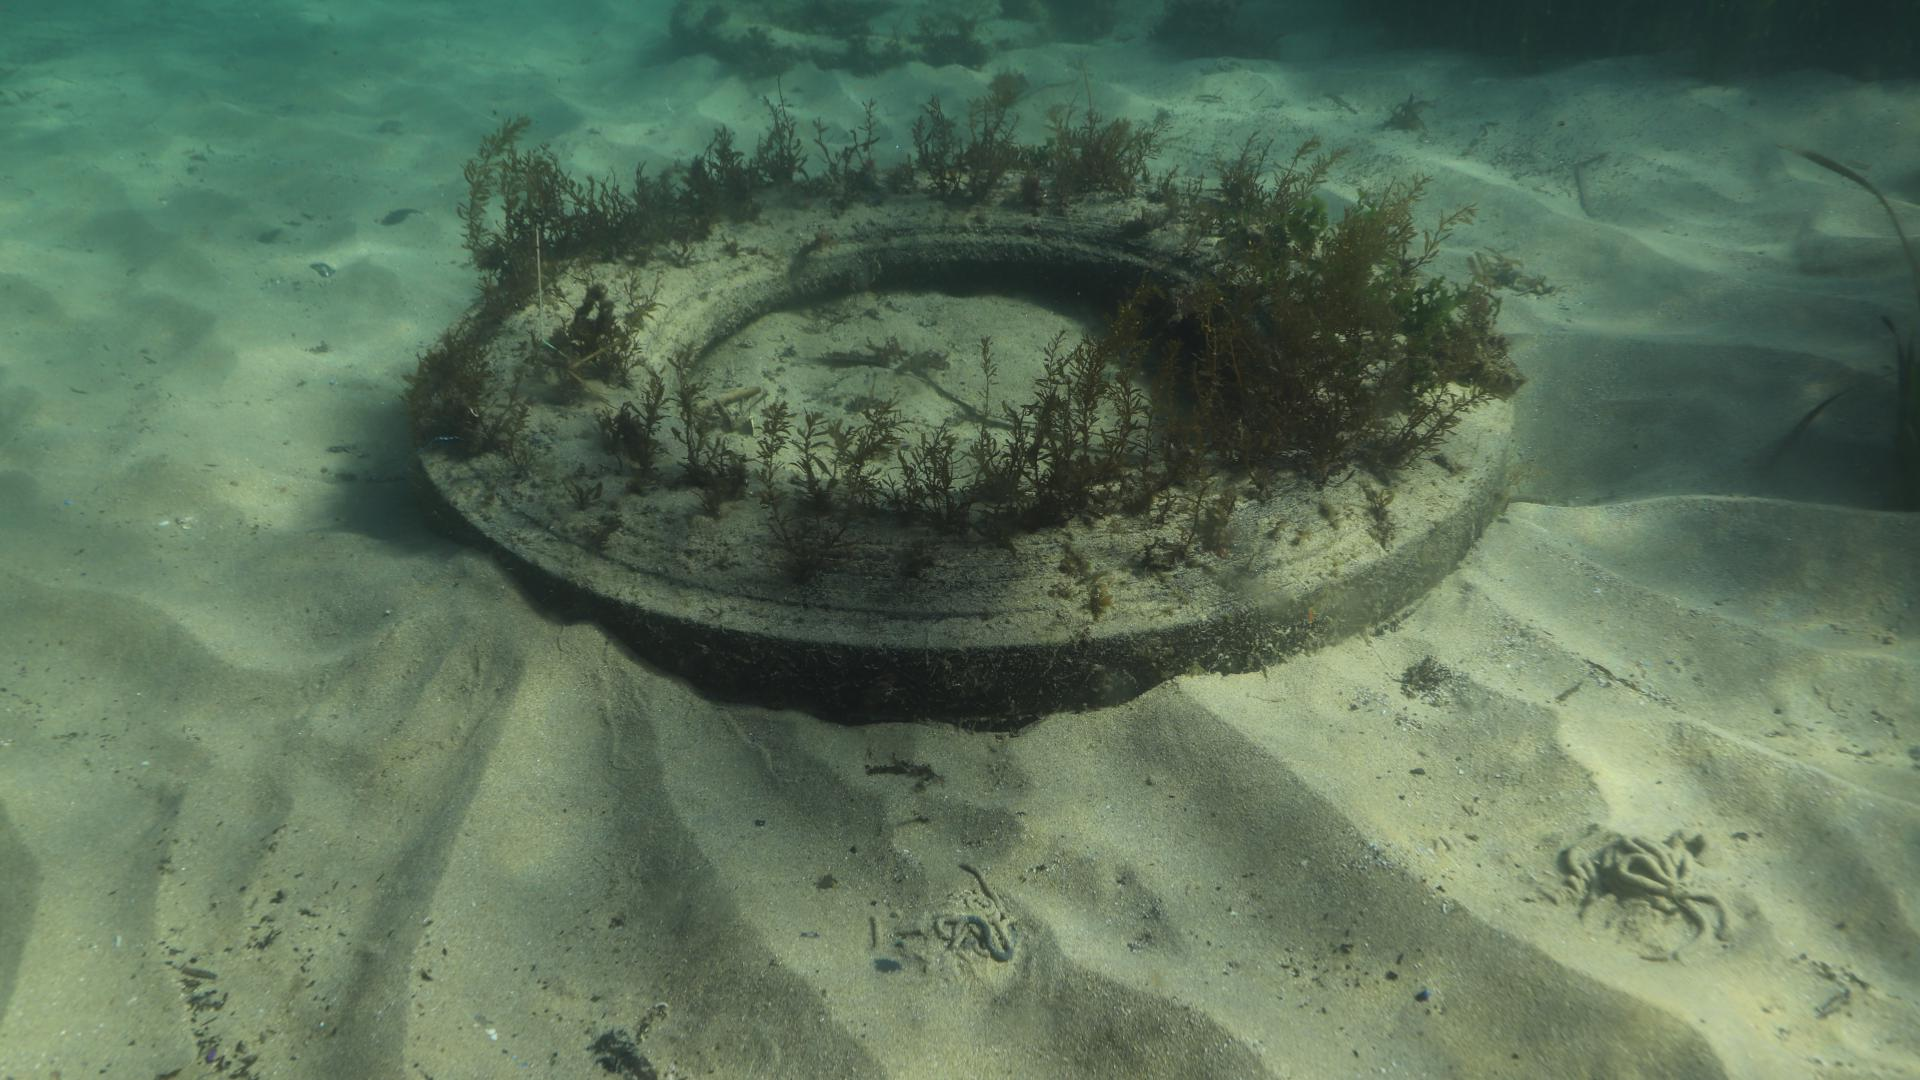tire: (414, 167, 1516, 731)
